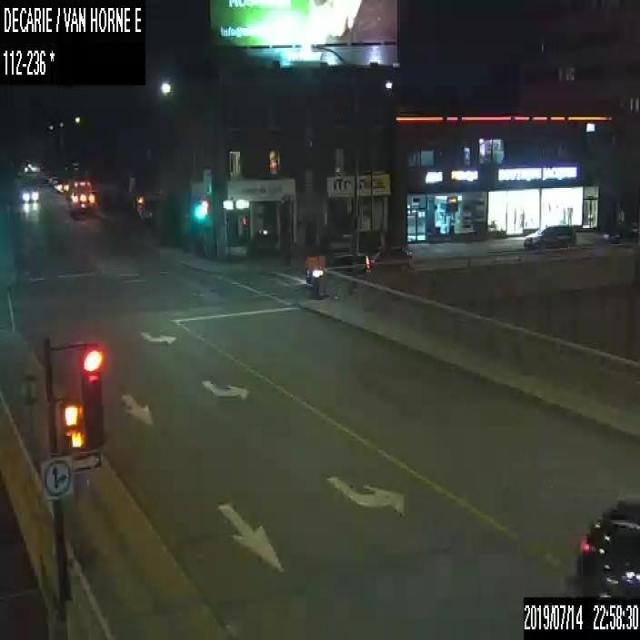construction: (19, 375, 49, 466)
vehicle: (575, 497, 639, 596), (304, 250, 368, 296), (362, 244, 414, 273), (523, 222, 575, 250), (67, 179, 97, 214), (602, 220, 639, 243), (136, 193, 157, 223), (18, 184, 40, 202)
